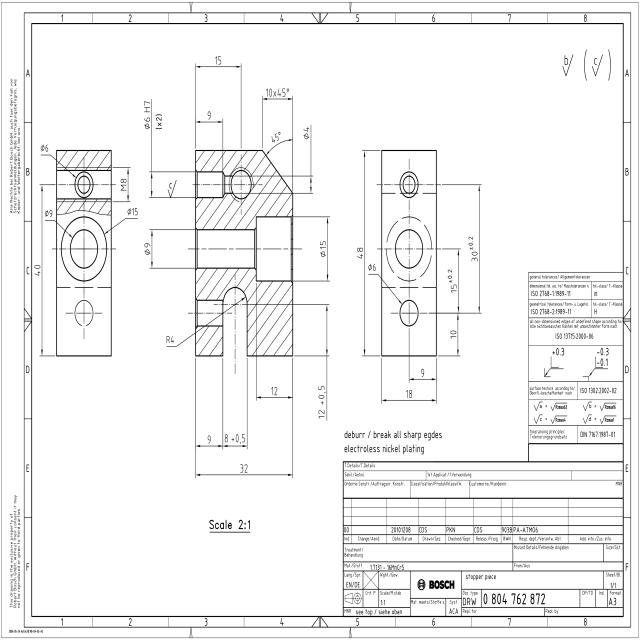dimension: (317, 384, 327, 420), (467, 234, 478, 263), (446, 268, 458, 292), (223, 432, 246, 444), (265, 87, 290, 98), (142, 100, 151, 130), (269, 130, 283, 145), (319, 239, 327, 257), (155, 112, 163, 130), (302, 124, 310, 141), (238, 461, 249, 473), (213, 53, 223, 66), (126, 206, 139, 216), (143, 240, 151, 256), (119, 176, 127, 192), (356, 245, 364, 260), (34, 262, 41, 278), (39, 142, 49, 153), (367, 262, 378, 272), (44, 208, 54, 218), (270, 384, 278, 396), (405, 388, 413, 400), (449, 328, 457, 340), (205, 108, 212, 121), (166, 334, 175, 344), (206, 434, 212, 446), (420, 368, 426, 378)
